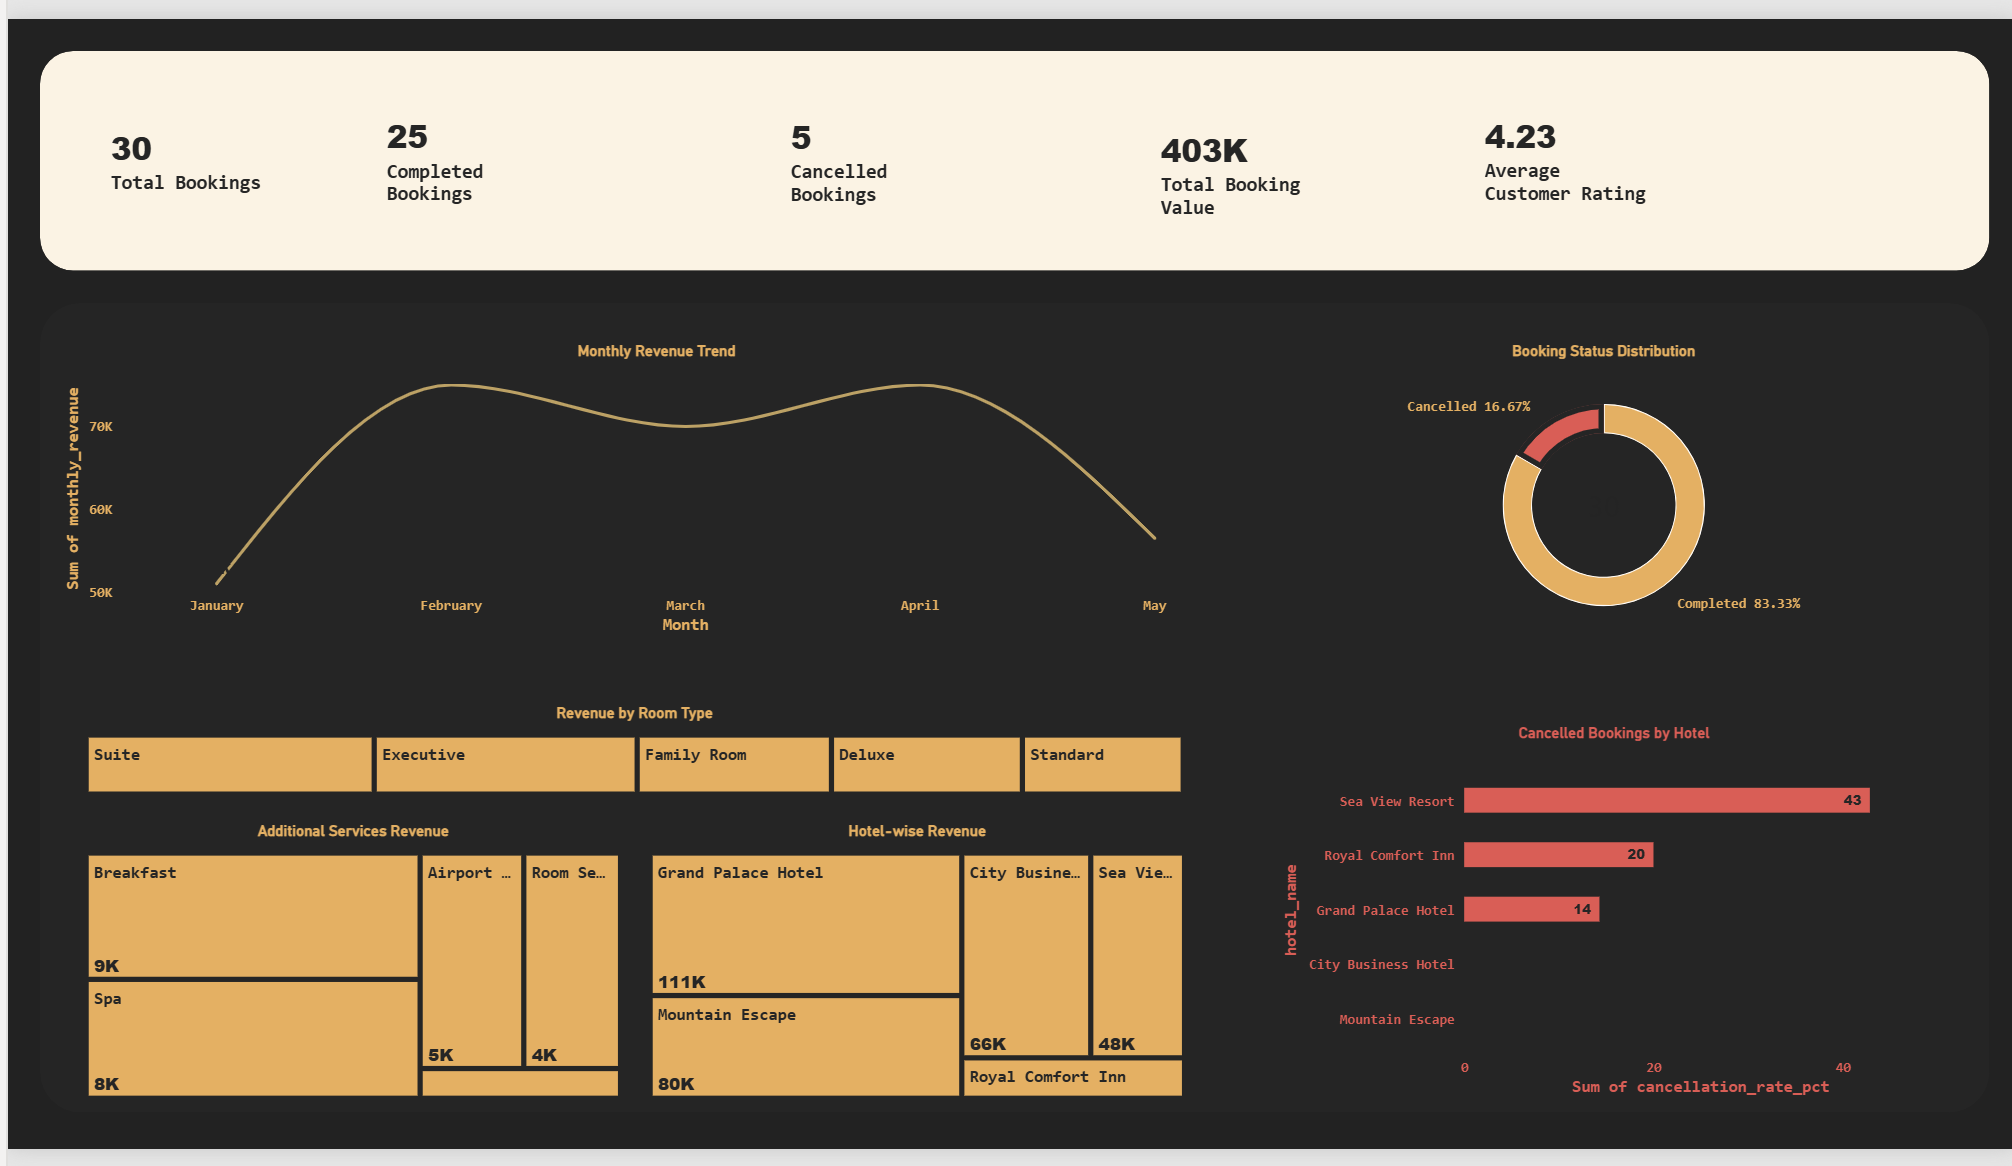

This screenshot's page, from the dashboard's own definition file:
{"tool":"powerbi","page":{"name":"Page 1","canvas":[1920,1080],"ordinal":0},"visuals":[{"type":"cardVisual","fields":{"Data":["CountNonNull(bookings.booking_id)"]},"box":[13.8,78.1,287.1,170],"z":0},{"type":"cardVisual","fields":{"Data":["CountNonNull(bookings.booking_id)"]},"box":[337.6,85,250.3,158.5],"z":1},{"type":"cardVisual","title":"Cancelled Bookings","fields":{"Data":["CountNonNull(bookings.booking_id)"]},"box":[992.2,85,271,163.1],"z":2},{"type":"cardVisual","fields":{"Data":["Sum(bookings.total_amount)"]},"box":[1290.7,82.7,287,170],"z":3},{"type":"cardVisual","fields":{"Data":["Avg(reviews.rating)"]},"box":[1612.2,82.7,287,170],"z":4},{"type":"clusteredBarChart","title":"Hotel-wise Revenue","fields":{"Category":["hotel_revenue.hotel_name"],"Y":["Sum(hotel_revenue.completed_revenue)"]},"box":[0,266.4,647.7,411.1],"z":5},{"type":"lineChart","title":"Monthly Revenue Trend","fields":{"Category":["monthly_revenue.booking_month.Variation.Date Hierarchy.Month"],"Y":["Sum(monthly_revenue.monthly_revenue)"]},"box":[695.9,252.6,594.8,424.9],"z":6},{"type":"donutChart","title":"Booking Status Distribution","fields":{"Category":["booking_status_summary.booking_status"],"Y":["Sum(booking_status_summary.total_bookings)"]},"box":[1352.7,275.6,546.6,401.9],"z":7},{"type":"clusteredColumnChart","title":"Hotel Cancellation Rate","fields":{"Category":["hotel_cancellation_rate.hotel_name"],"Y":["Sum(hotel_cancellation_rate.cancellation_rate_pct)"]},"box":[13.8,689,633.9,392.7],"z":8},{"type":"clusteredBarChart","title":"Revenue by Room Type","fields":{"Category":["room_type_revenue.room_type_name"],"Y":["Sum(room_type_revenue.completed_revenue)"]},"box":[695.9,689,592.5,381.2],"z":9},{"type":"clusteredColumnChart","title":"Additional Services Revenue","fields":{"Category":["service_revenue.service_name"],"Y":["Sum(service_revenue.service_revenue)"]},"box":[1334.4,700.5,565,381.2],"z":10},{"type":"textbox","box":[13.8,18.4,1371.1,183.7],"z":11},{"type":"image","box":[103.3,85,227.4,149.3],"z":12},{"type":"image","box":[463.9,156.2,124,87.3],"z":13},{"type":"image","box":[1453.8,124,124,128.6],"z":14},{"type":"image","box":[1127.7,140.1,135.5,117.1],"z":15},{"type":"image","box":[1809.8,149.3,89.6,107.9],"z":16}]}

Visuals, with their boxes in screenshot pixels (x1, y1, x2, y2), scaled from the page's 1920x1080 canvas onto the 2012x1166 screenshot:
cardVisual - CountNonNull(bookings.booking_id): (left=14, top=84, right=315, bottom=268)
cardVisual - CountNonNull(bookings.booking_id): (left=354, top=92, right=616, bottom=263)
"Cancelled Bookings" cardVisual: (left=1040, top=92, right=1324, bottom=268)
cardVisual - Sum(bookings.total_amount): (left=1353, top=89, right=1653, bottom=273)
cardVisual - Avg(reviews.rating): (left=1689, top=89, right=1990, bottom=273)
"Hotel-wise Revenue" clusteredBarChart: (left=0, top=288, right=679, bottom=731)
"Monthly Revenue Trend" lineChart: (left=729, top=273, right=1353, bottom=731)
"Booking Status Distribution" donutChart: (left=1418, top=298, right=1990, bottom=731)
"Hotel Cancellation Rate" clusteredColumnChart: (left=14, top=744, right=679, bottom=1165)
"Revenue by Room Type" clusteredBarChart: (left=729, top=744, right=1350, bottom=1155)
"Additional Services Revenue" clusteredColumnChart: (left=1398, top=756, right=1990, bottom=1165)
textbox: (left=14, top=20, right=1451, bottom=218)
image: (left=108, top=92, right=347, bottom=253)
image: (left=486, top=169, right=616, bottom=263)
image: (left=1523, top=134, right=1653, bottom=273)
image: (left=1182, top=151, right=1324, bottom=278)
image: (left=1897, top=161, right=1990, bottom=278)
